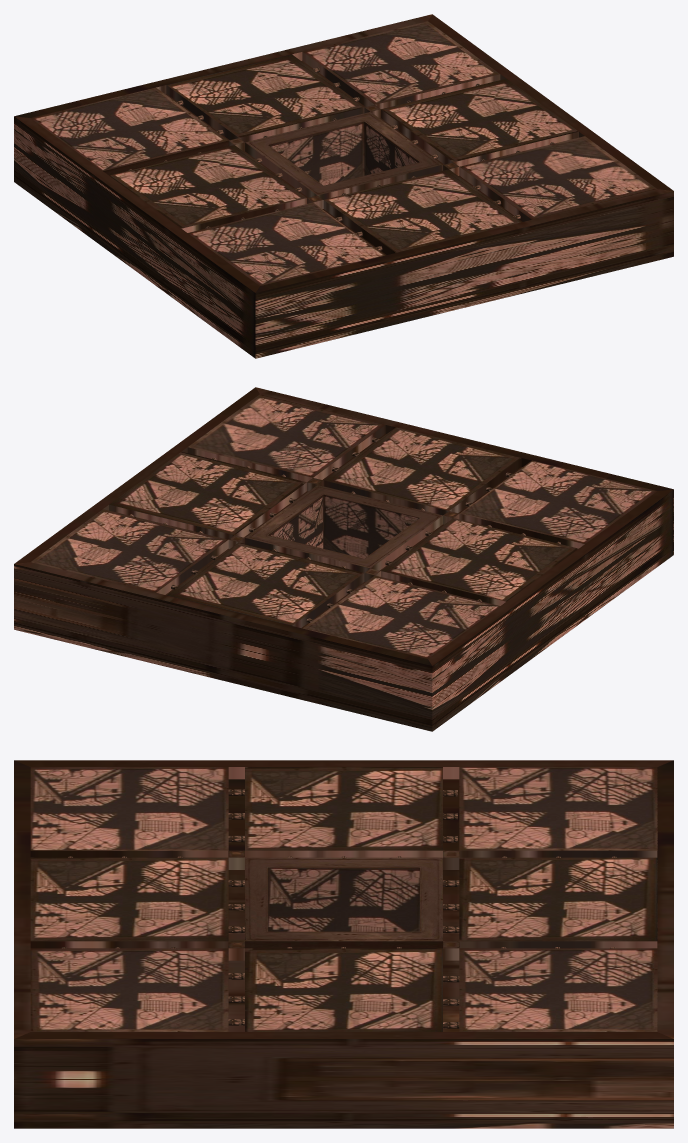
The model's file is WallOne.obj.
3 renders of one model, top to bottom at view 1: azimuth 30°, elevation 25°; view 2: azimuth 150°, elevation 25°; view 3: azimuth 270°, elevation 25°, orthographic. The views are drawn at different scales.
Visible parts, largest first — view 1: Cube.001_Cube.003; view 2: Cube.001_Cube.003; view 3: Cube.001_Cube.003.
Boxes of the visible parts, x1,y1,x2,y2 form: Cube.001_Cube.003: (14, 14, 673, 358); Cube.001_Cube.003: (14, 387, 673, 731); Cube.001_Cube.003: (14, 760, 673, 1128).
Size of the model in its own units: 2 by 0.3 by 2.
